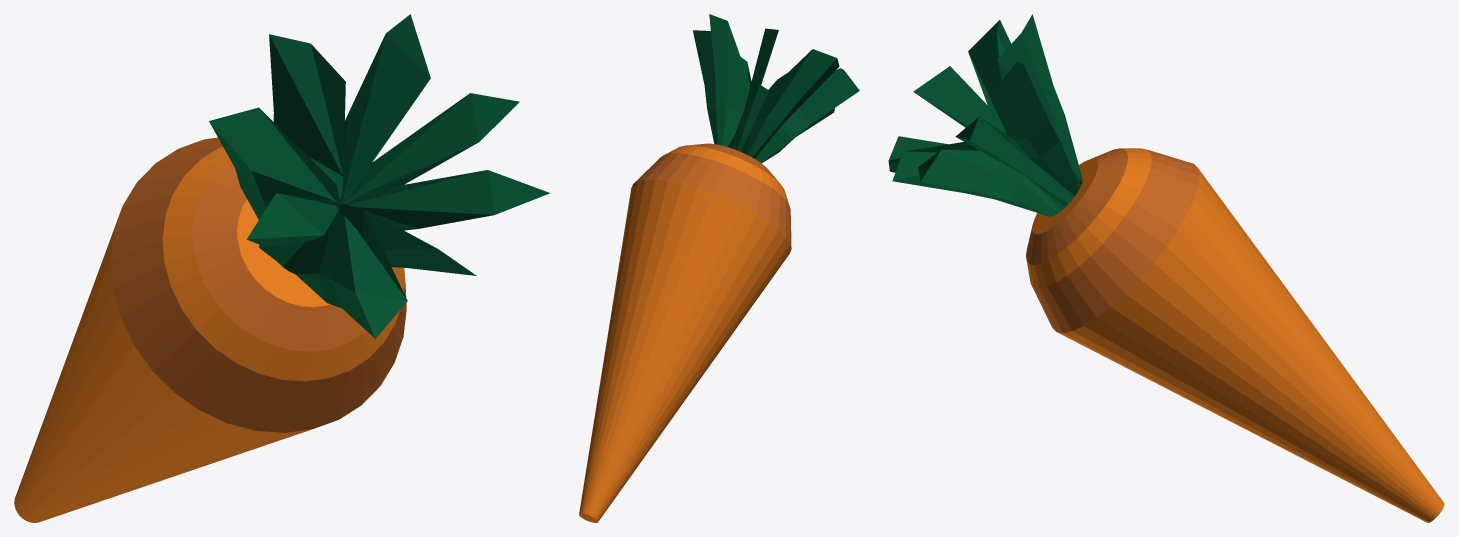
The model's file is Premio.fbx.
3 renders of one model, left to right at view 1: azimuth 30°, elevation 25°; view 2: azimuth 150°, elevation 25°; view 3: azimuth 270°, elevation 25°, orthographic. The views are drawn at different scales.
Visible parts, largest first — view 1: Premio; view 2: Premio; view 3: Premio.
Boxes of the visible parts, x1,y1,x2,y2 form: Premio: [14, 14, 550, 522]; Premio: [579, 14, 859, 522]; Premio: [888, 14, 1444, 522].
Size of the model in its own units: 97.98 by 229 by 237.
Materials: 1 (1 with a texture image).
